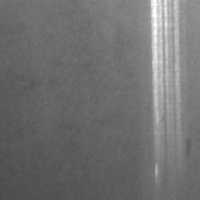scratches: (150, 1, 182, 181)
